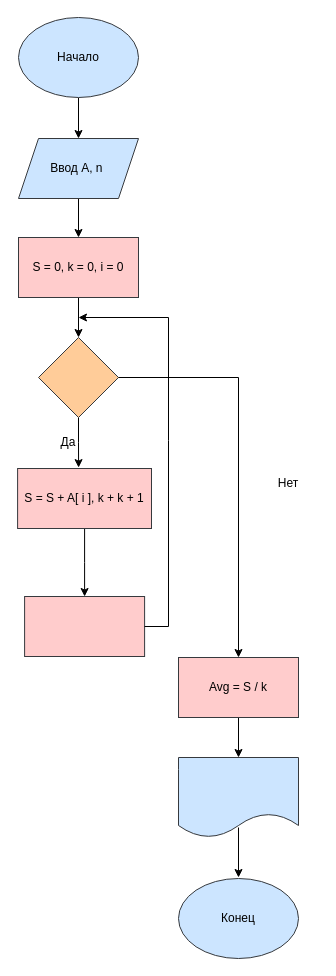
This 336x976 diagram has some shape labels left out. Here are the shapes that lost their labels. From the top down, the centre of each, then its label:
At (x=78, y=377): "i < = n?".
At (x=84, y=626): "i = i + 2".
At (x=238, y=797): "Вывод Avg".
